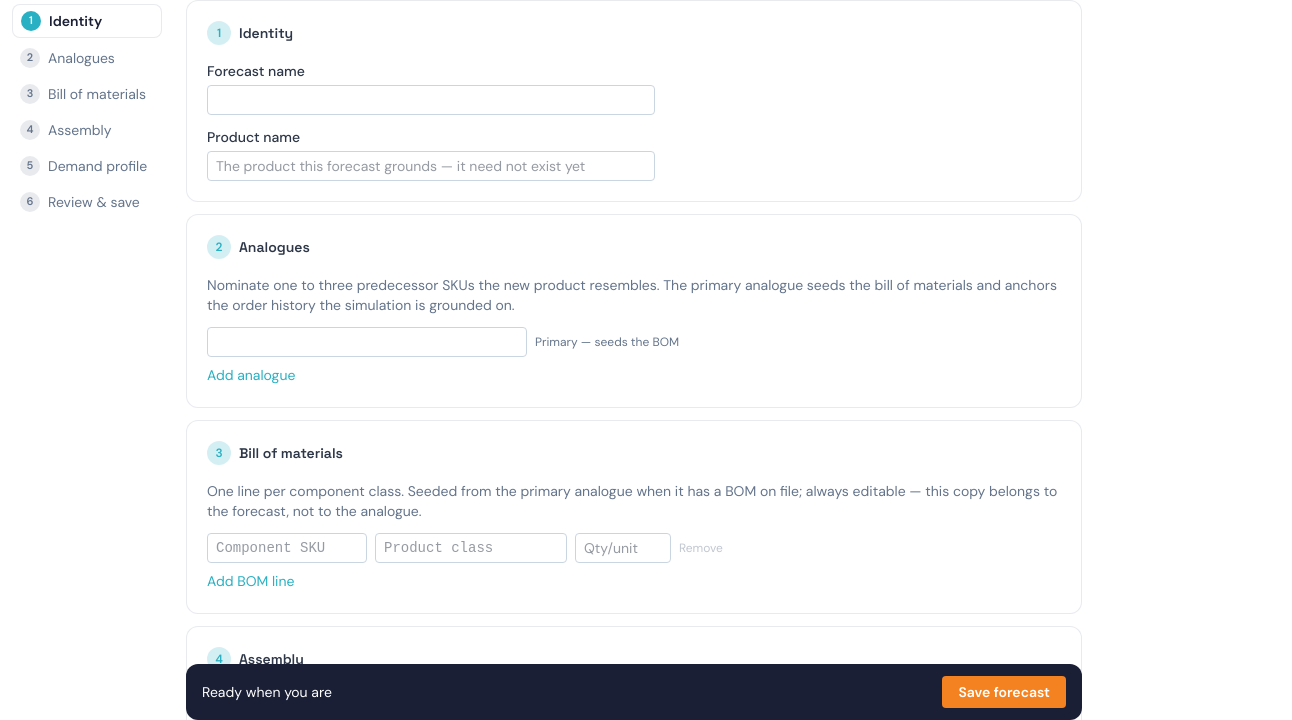
Test: <ForecastWizard> › shows the manual-entry message on bom-seed 404 and leaves the BOM step editable
The width and height of the screenshot is (1292, 720).
Type "A1000-BLK" into the field named "Primary analogue SKU" at x=367, y=342, box [207,327,527,357]
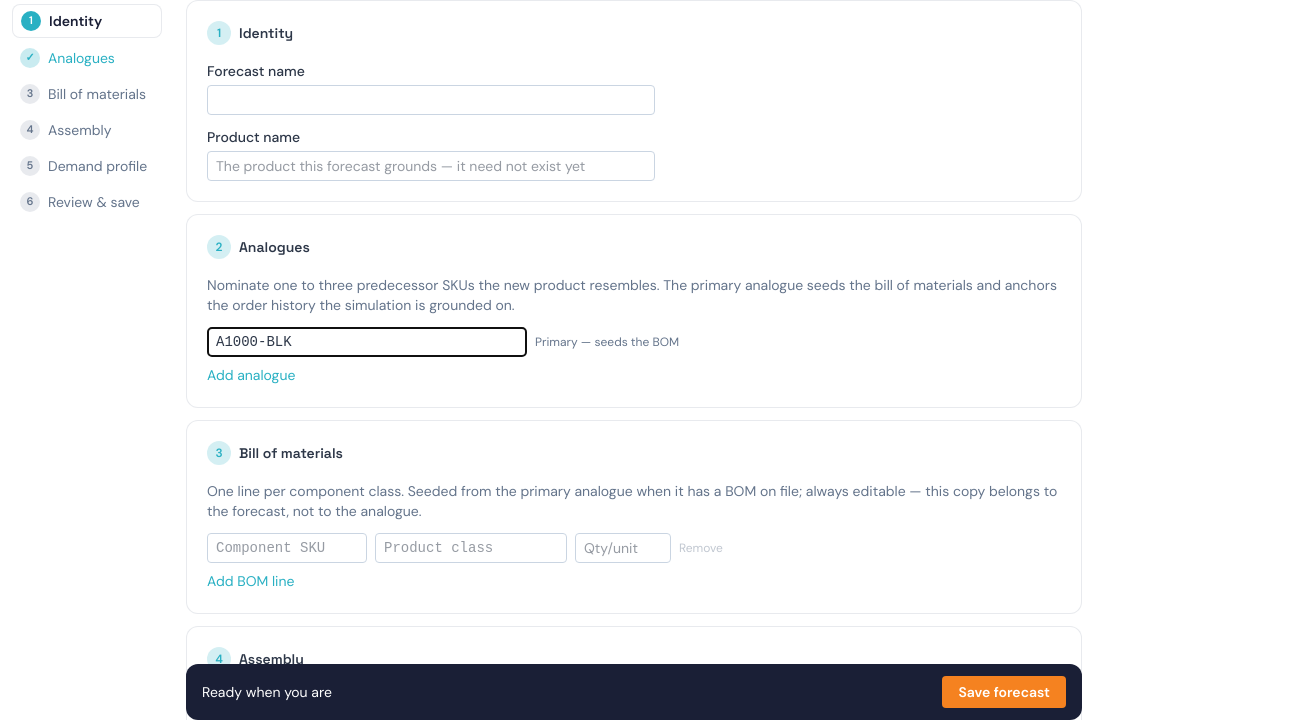
Press Tab
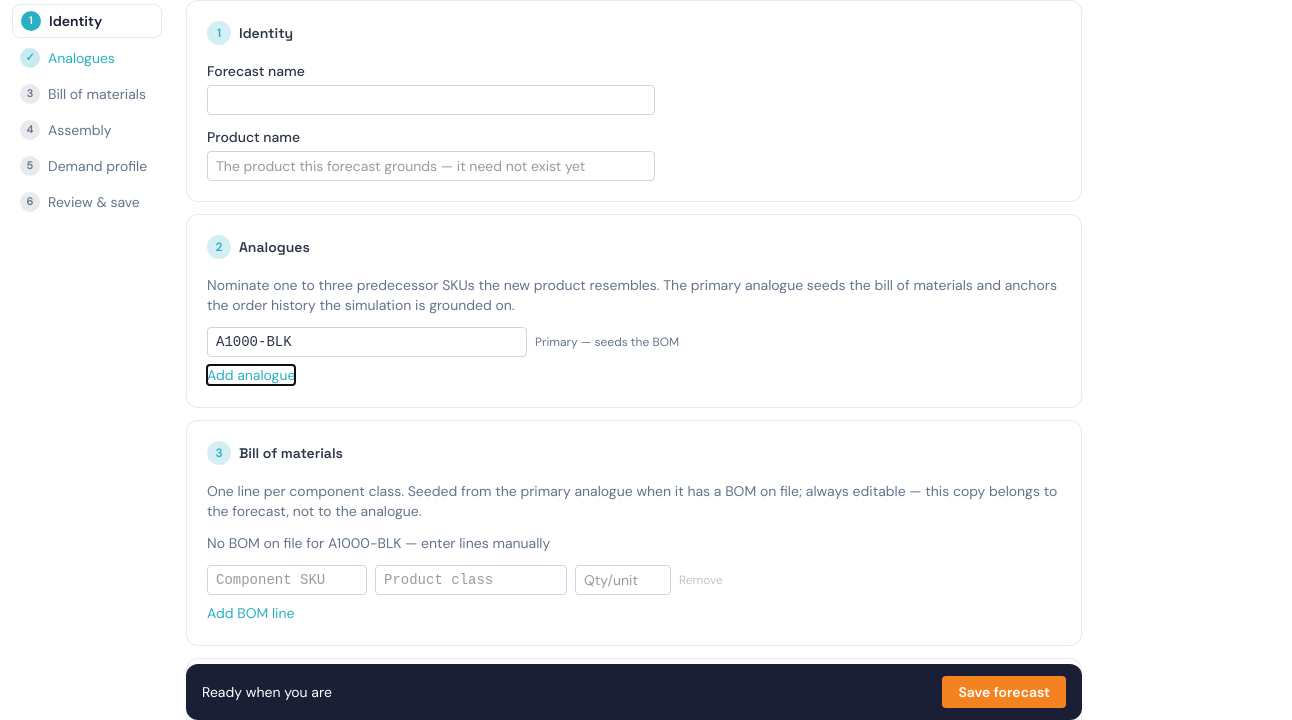
Expected: the field named "Component SKU 1" is enabled, [207,565,367,595]
Now the text "No BOM on file for A1000-BLK — enter lines manually" is shown, box [207,534,550,552]
